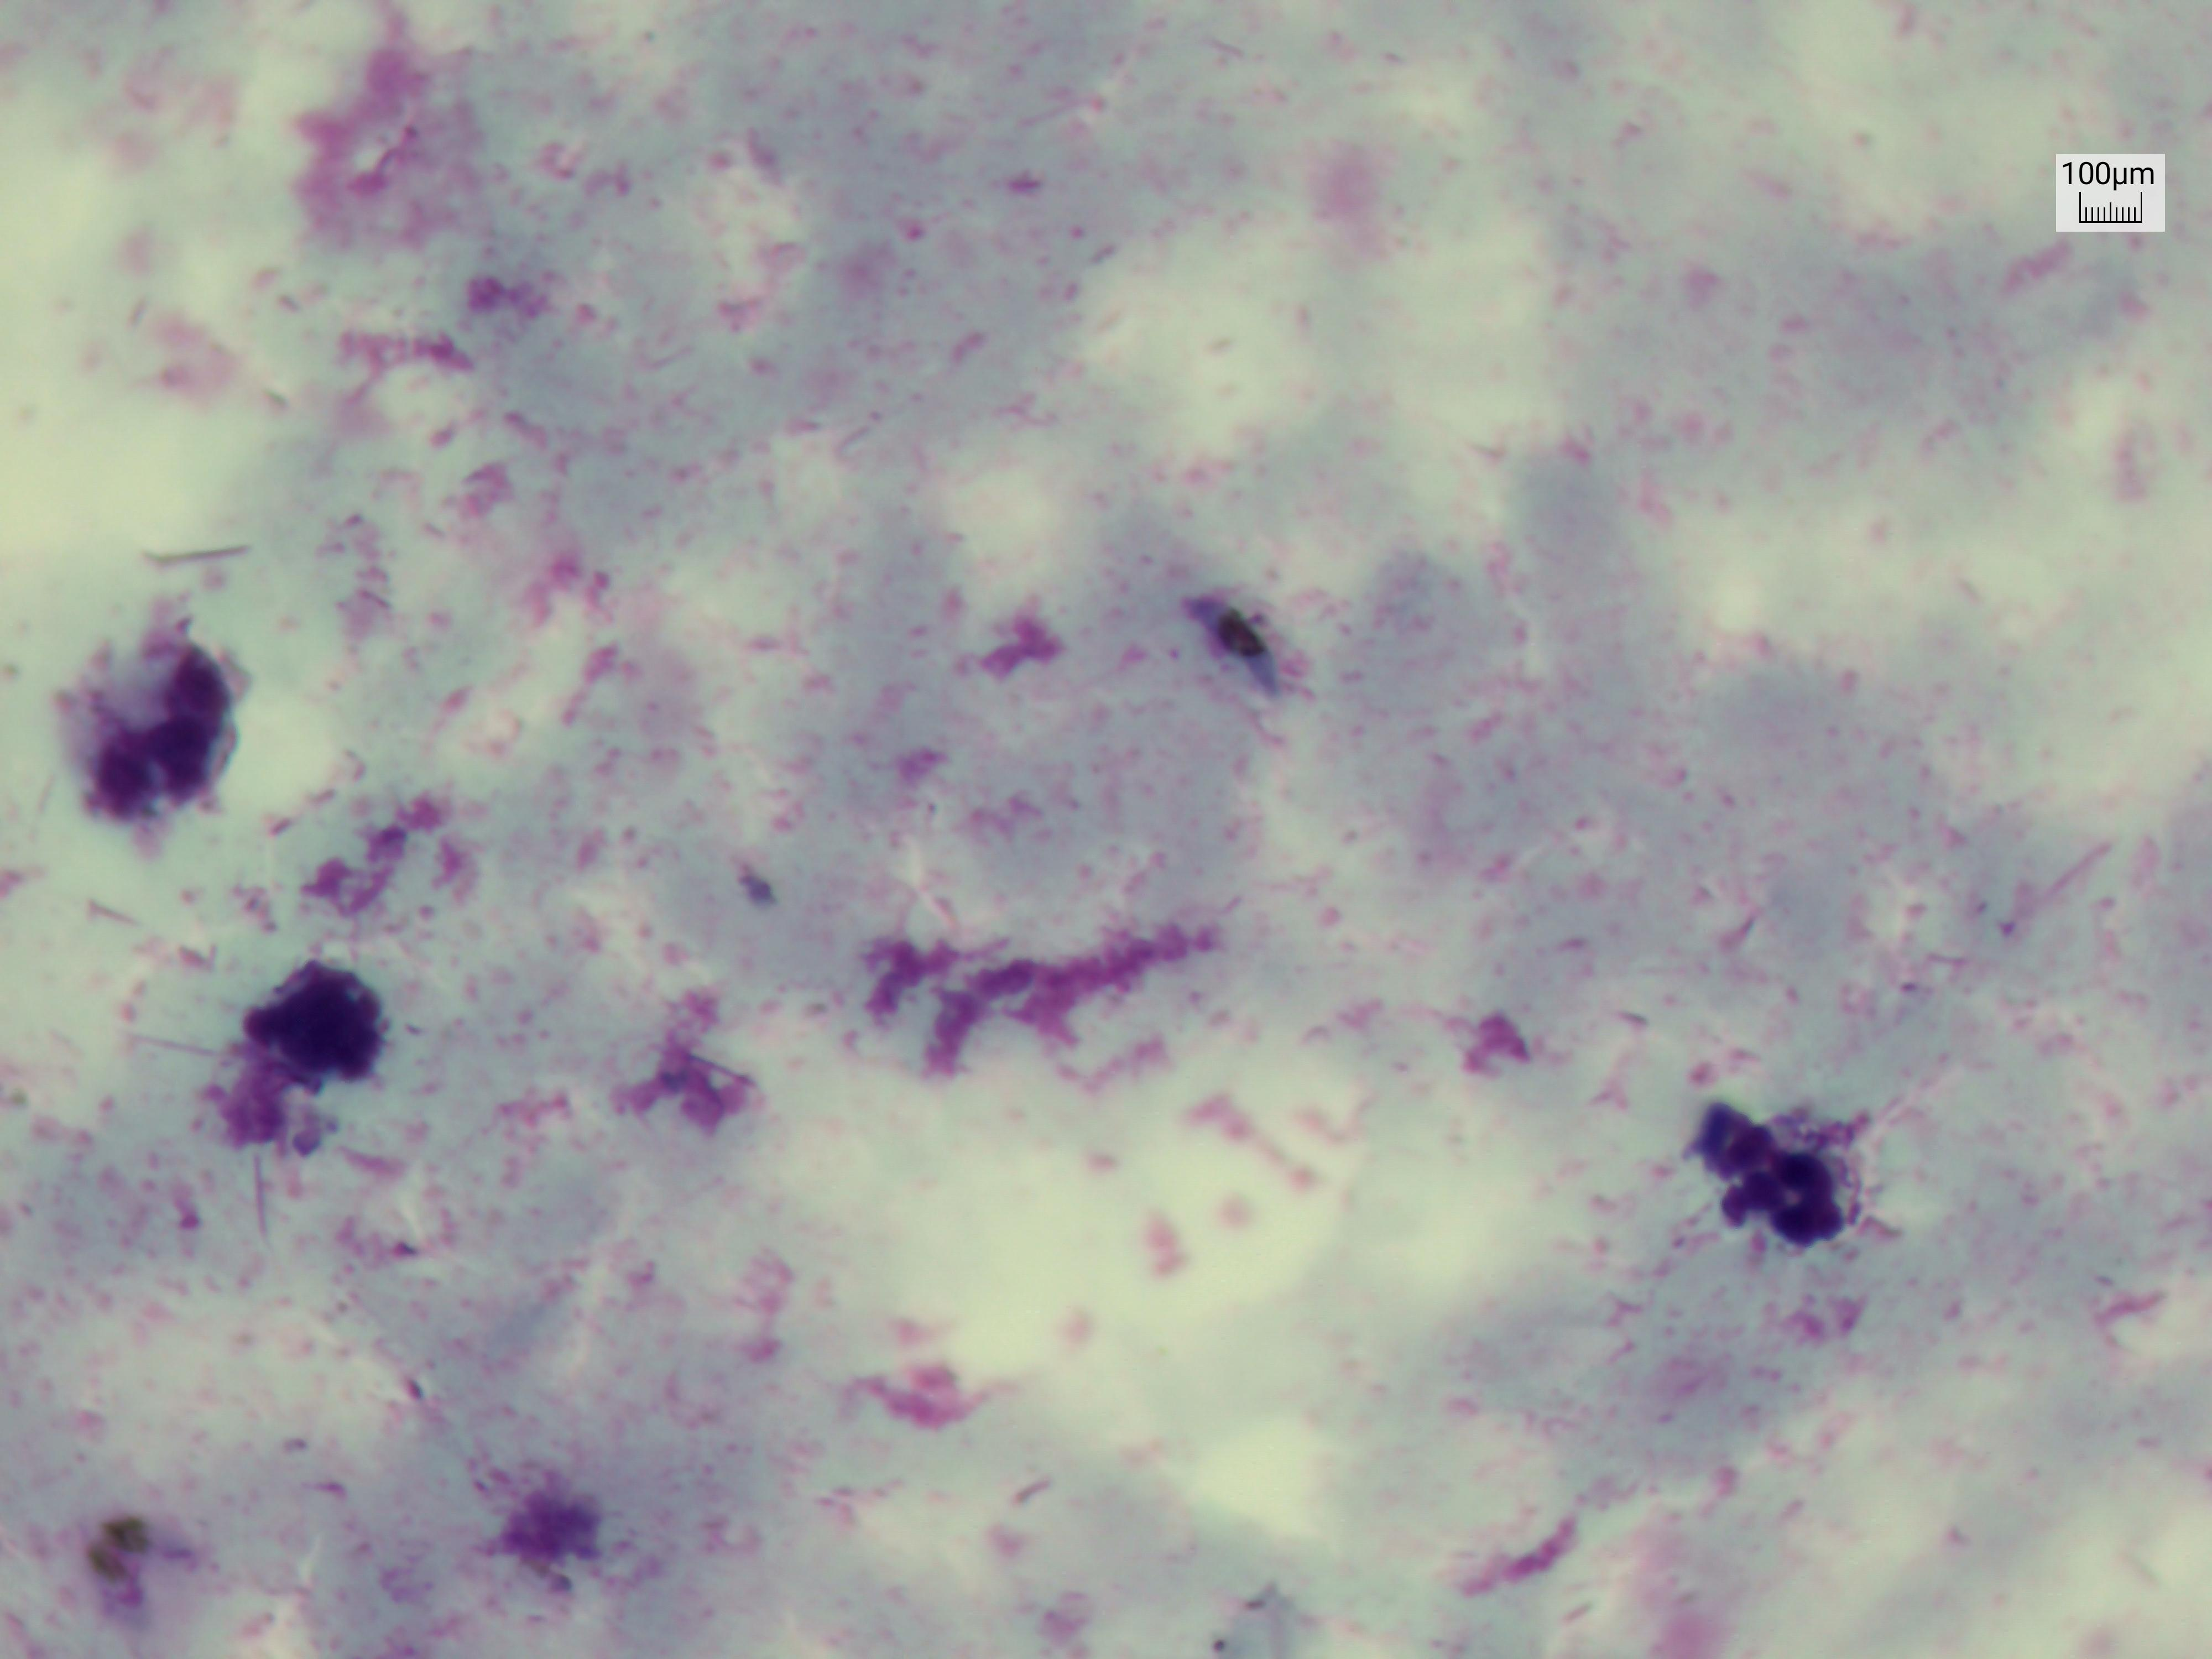p.falciparum: (1139, 547, 1312, 741), (57, 1499, 204, 1621), (707, 847, 810, 943)
